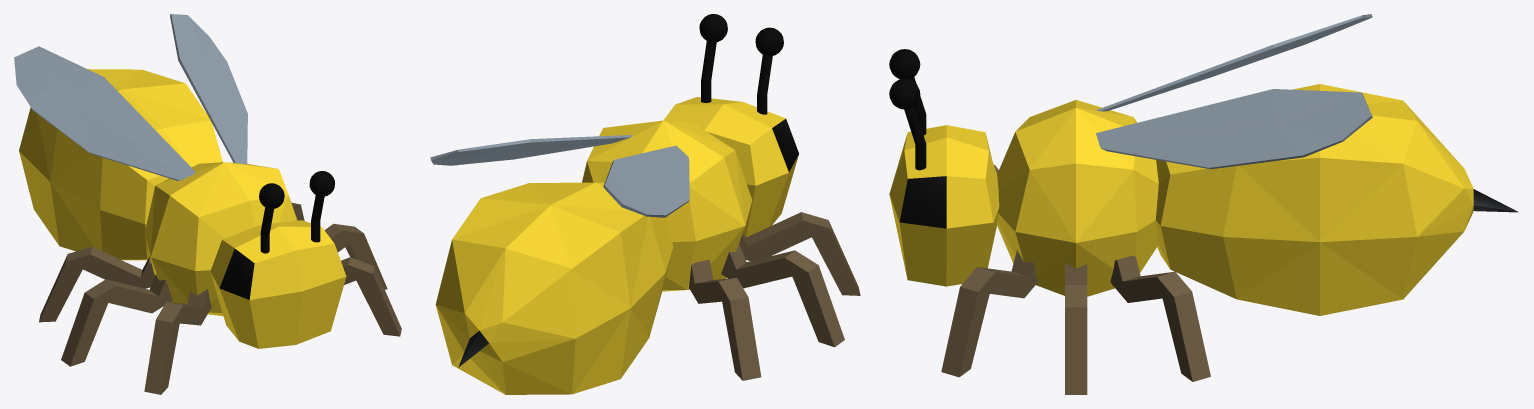
Rendered from bee.gltf.
3 views of the same model, side by side, from view 1: azimuth 30°, elevation 25°; view 2: azimuth 150°, elevation 25°; view 3: azimuth 270°, elevation 25° (orthographic). The views are drawn at different scales.
Parts seen in each view (by area): view 1: bee; view 2: bee; view 3: bee.
Boxes of the visible parts, bbox=[...] form: bee: bbox=[14, 14, 401, 394]; bee: bbox=[430, 14, 860, 394]; bee: bbox=[889, 14, 1518, 394].
Size of the model in its own units: 3.96 by 2.47 by 5.69.
1 material, 1 textured.
